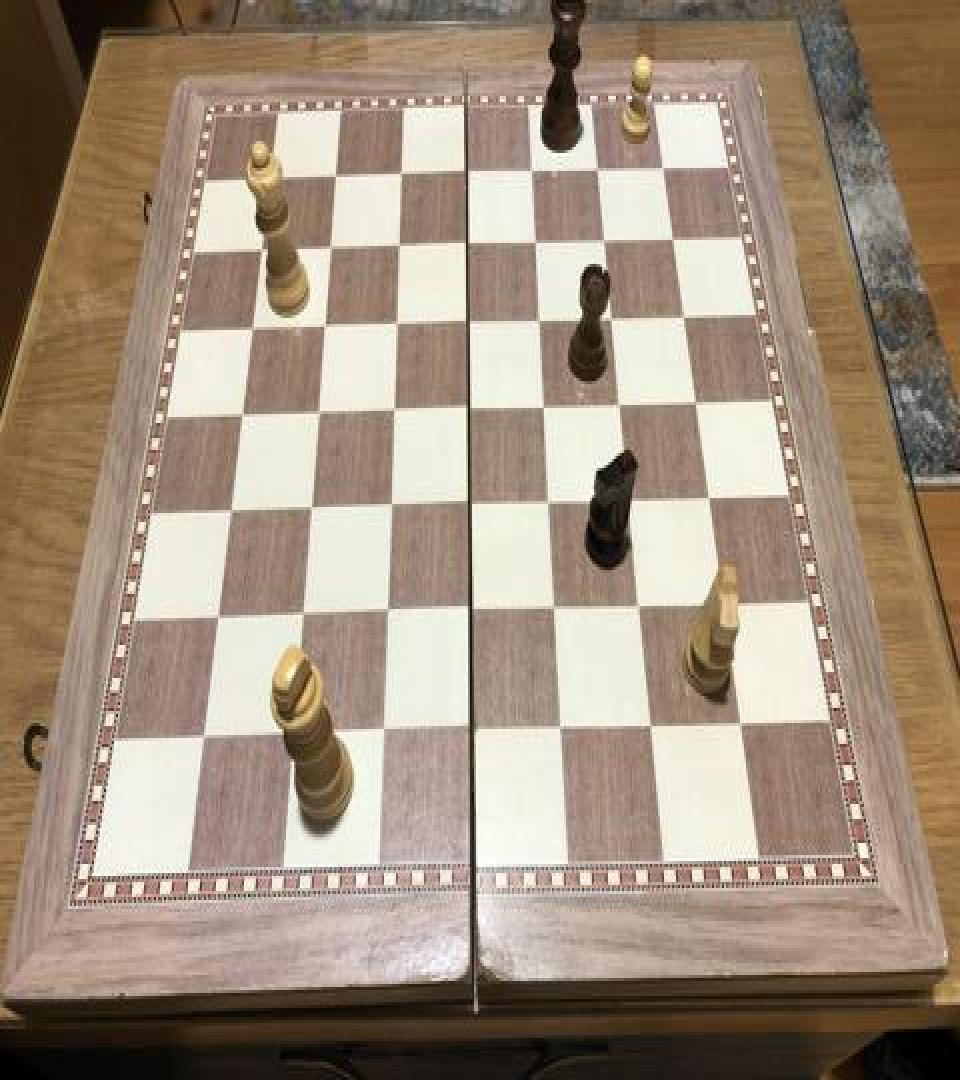xcorner: (630, 586, 654, 623), (462, 712, 486, 749), (282, 718, 306, 755), (652, 147, 676, 183), (587, 148, 611, 184), (521, 152, 545, 188), (456, 153, 480, 189), (391, 154, 415, 190), (325, 156, 349, 192), (260, 158, 284, 194), (662, 218, 686, 254), (594, 220, 618, 256), (525, 222, 549, 258), (457, 224, 481, 260), (388, 225, 412, 261), (320, 228, 344, 264), (251, 230, 275, 266), (673, 296, 697, 332), (601, 298, 625, 334), (530, 300, 554, 336), (458, 302, 482, 338), (386, 304, 410, 340), (314, 306, 338, 342), (242, 308, 266, 344), (685, 382, 709, 418), (610, 384, 634, 420), (534, 386, 558, 422), (459, 388, 483, 424), (383, 390, 407, 426), (307, 393, 331, 429), (231, 394, 255, 430), (699, 477, 723, 513), (619, 480, 643, 516), (539, 482, 563, 518), (460, 484, 484, 520), (380, 486, 404, 522), (300, 489, 324, 525), (219, 490, 243, 526), (714, 585, 738, 621), (545, 590, 569, 626), (461, 592, 485, 628), (376, 594, 400, 630), (291, 597, 315, 633), (206, 598, 230, 634), (731, 705, 755, 741), (641, 706, 665, 742), (552, 710, 576, 746), (372, 716, 396, 752), (192, 720, 216, 756)
